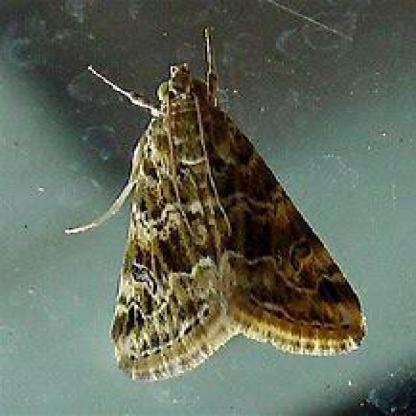Hellula undalis: (58, 22, 368, 384)
